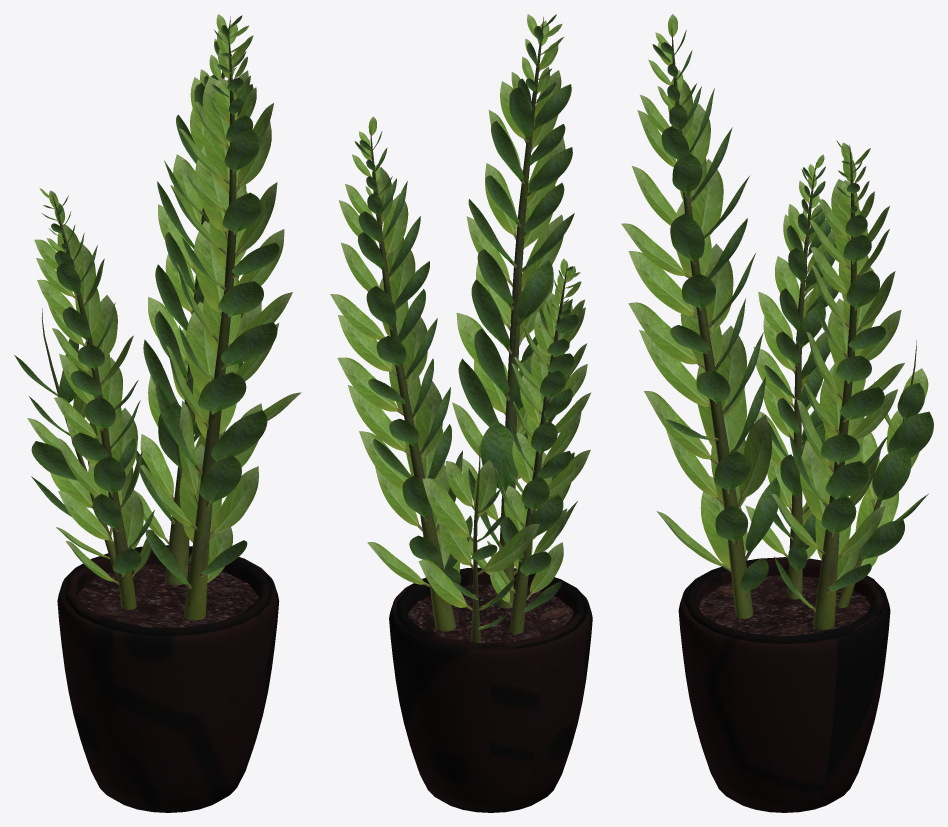
The model's file is IndoorPlant1.fbx.
3 renders of one model, left to right at view 1: azimuth 30°, elevation 25°; view 2: azimuth 150°, elevation 25°; view 3: azimuth 270°, elevation 25°, orthographic. The views are drawn at different scales.
Parts seen in each view (by area): view 1: Circle; view 2: Circle; view 3: Circle.
Boxes of the visible parts, x1=… form: Circle: x1=14, y1=14, x2=301, y2=812; Circle: x1=330, y1=14, x2=592, y2=812; Circle: x1=621, y1=14, x2=933, y2=812.
Bounding box in the file's own units: 237 × 760 × 280.
Materials: 1 (1 with a texture image).
